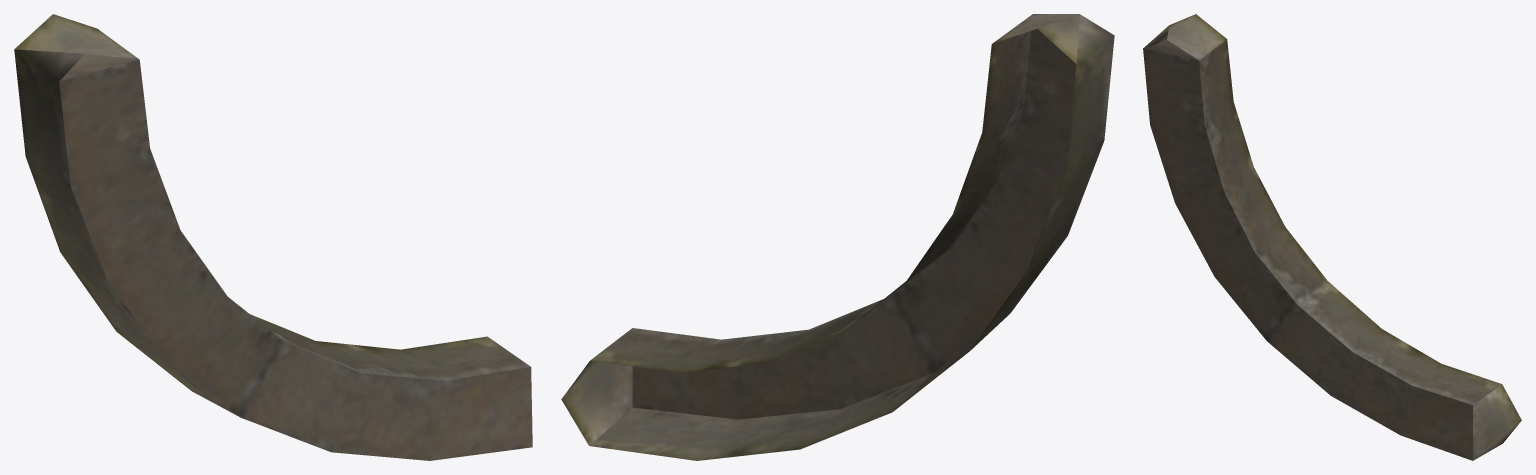
File: border_c_90_3.glb
3 renders of one model, left to right at view 1: azimuth 30°, elevation 25°; view 2: azimuth 150°, elevation 25°; view 3: azimuth 330°, elevation 25°, orthographic. The views are drawn at different scales.
Visible parts, largest first — view 1: set_0_group_0; view 2: set_0_group_0; view 3: set_0_group_0.
Boxes of the visible parts, left/top/right/bottom form: set_0_group_0: left=14, top=14, right=532, bottom=460; set_0_group_0: left=561, top=14, right=1114, bottom=460; set_0_group_0: left=1143, top=14, right=1521, bottom=460.
Size of the model in its own units: 1.94 by 1.89 by 0.3275.
1 material, 1 textured.
